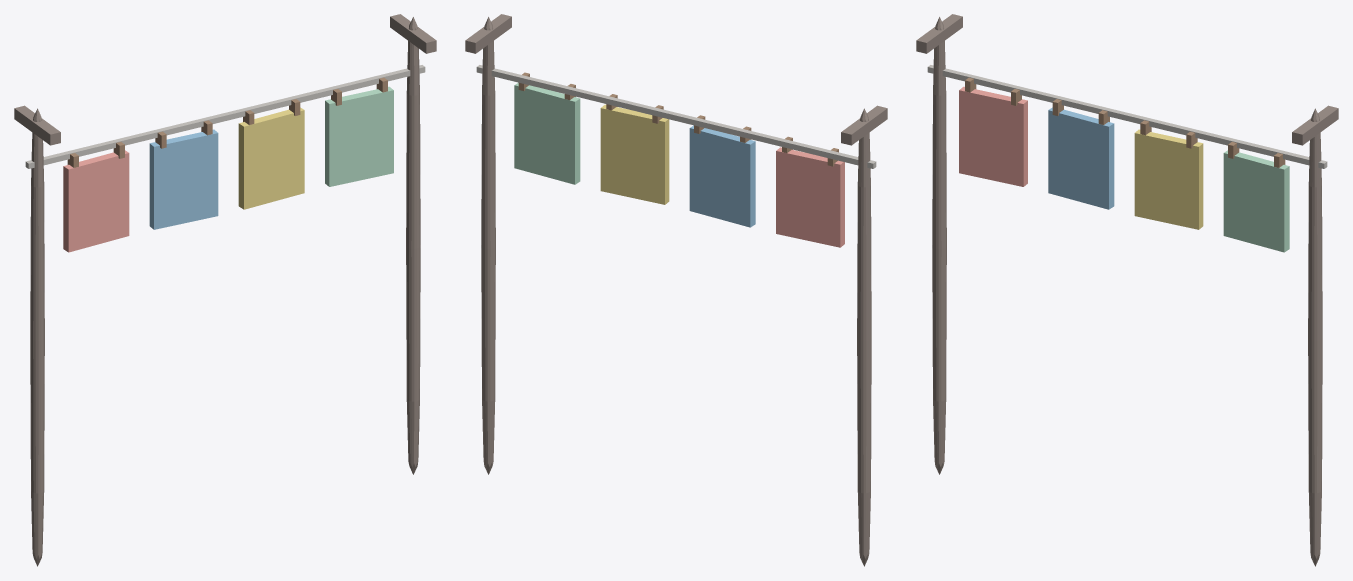
The model's file is varal.glb.
3 views of the same model, side by side, from view 1: azimuth 30°, elevation 25°; view 2: azimuth 150°, elevation 25°; view 3: azimuth 330°, elevation 25° (orthographic).
Visible parts, largest first — view 1: Varal; view 2: Varal; view 3: Varal.
Part boxes in pixels (bbox=[...]): Varal: bbox=[14, 14, 436, 566]; Varal: bbox=[465, 14, 887, 566]; Varal: bbox=[916, 14, 1338, 566].
Bounding box in the file's own units: 1.9 × 2.1 × 0.3.
